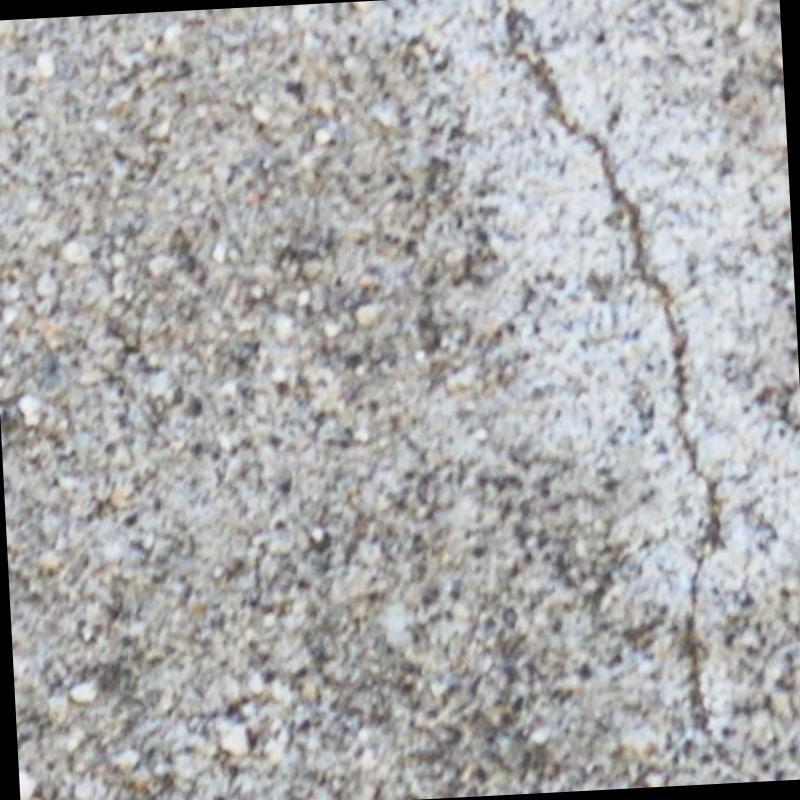crack: (506, 0, 724, 648)
